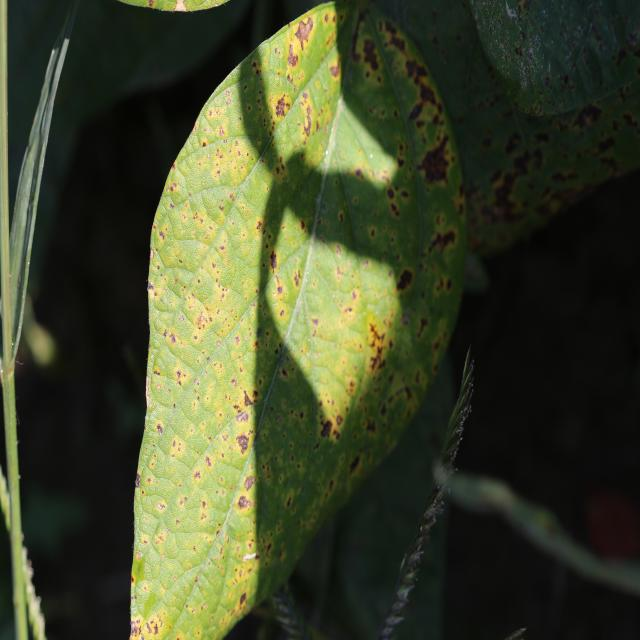Bacterial_Blight: (131, 2, 465, 640), (484, 140, 548, 221), (201, 133, 250, 190), (421, 142, 454, 194), (366, 320, 389, 370), (384, 183, 410, 220), (427, 228, 455, 256), (574, 103, 603, 129), (294, 15, 314, 50), (361, 39, 380, 73), (138, 614, 164, 637), (130, 553, 145, 584), (395, 267, 413, 292), (274, 93, 291, 119), (195, 308, 214, 331), (301, 102, 313, 136), (595, 135, 616, 154), (505, 131, 522, 154), (408, 100, 424, 122), (236, 432, 251, 454), (170, 437, 185, 459), (320, 418, 334, 439), (615, 47, 628, 67), (130, 617, 143, 636), (237, 494, 252, 510), (349, 454, 361, 473), (155, 531, 167, 548), (400, 308, 411, 326), (244, 475, 256, 490), (173, 0, 188, 12), (243, 390, 254, 406), (329, 62, 340, 78), (293, 269, 302, 288), (236, 410, 249, 423), (270, 251, 278, 271), (145, 373, 150, 405), (252, 60, 262, 75), (168, 181, 178, 193), (239, 592, 247, 605), (156, 501, 166, 511), (155, 423, 163, 435), (179, 496, 187, 507), (205, 455, 212, 467), (147, 280, 154, 292), (519, 30, 526, 42), (311, 317, 319, 327), (355, 167, 363, 177), (169, 333, 176, 344), (281, 367, 288, 378), (515, 46, 522, 57), (286, 496, 292, 508), (194, 470, 201, 480), (135, 474, 140, 488), (219, 244, 226, 253), (135, 551, 142, 560), (256, 221, 262, 231), (277, 285, 283, 295), (544, 76, 550, 86), (176, 370, 182, 379), (159, 231, 165, 240), (200, 602, 206, 611), (202, 140, 208, 147), (201, 499, 206, 507), (280, 309, 285, 317), (194, 576, 199, 583)
Soybean: (131, 3, 465, 640)
